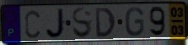9: (148, 5, 167, 37)
C: (24, 9, 41, 39)
D: (94, 6, 118, 39)
G: (124, 7, 145, 38)
J: (45, 7, 67, 40)
S: (71, 6, 94, 40)
